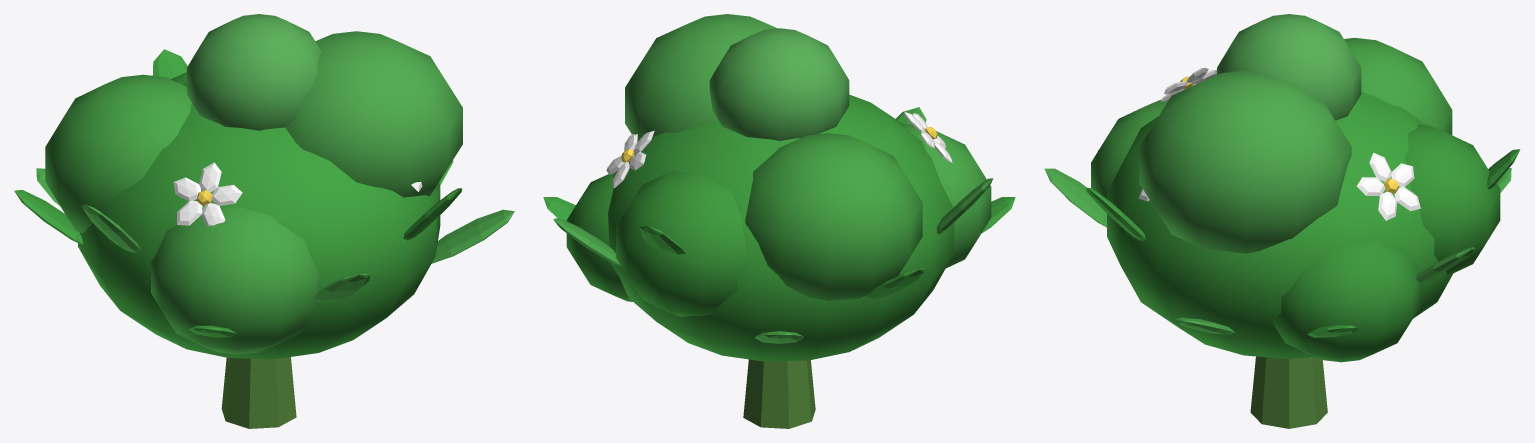
Rendered from Planta_Strawberry.fbx.
The picture shows the model from 3 angles, left to right: view 1: azimuth 30°, elevation 25°; view 2: azimuth 150°, elevation 25°; view 3: azimuth 270°, elevation 25°; orthographic projection. The views are drawn at different scales.
Parts seen in each view (by area): view 1: Corpo_Strawberry; view 2: Corpo_Strawberry; view 3: Corpo_Strawberry.
Part boxes in pixels (x1,y1,x2,y2): Corpo_Strawberry: [14, 14, 514, 428]; Corpo_Strawberry: [543, 14, 1015, 428]; Corpo_Strawberry: [1044, 14, 1520, 428].
Size of the model in its own units: 1.98 by 1.78 by 1.97.
Materials: 1 (1 with a texture image).
